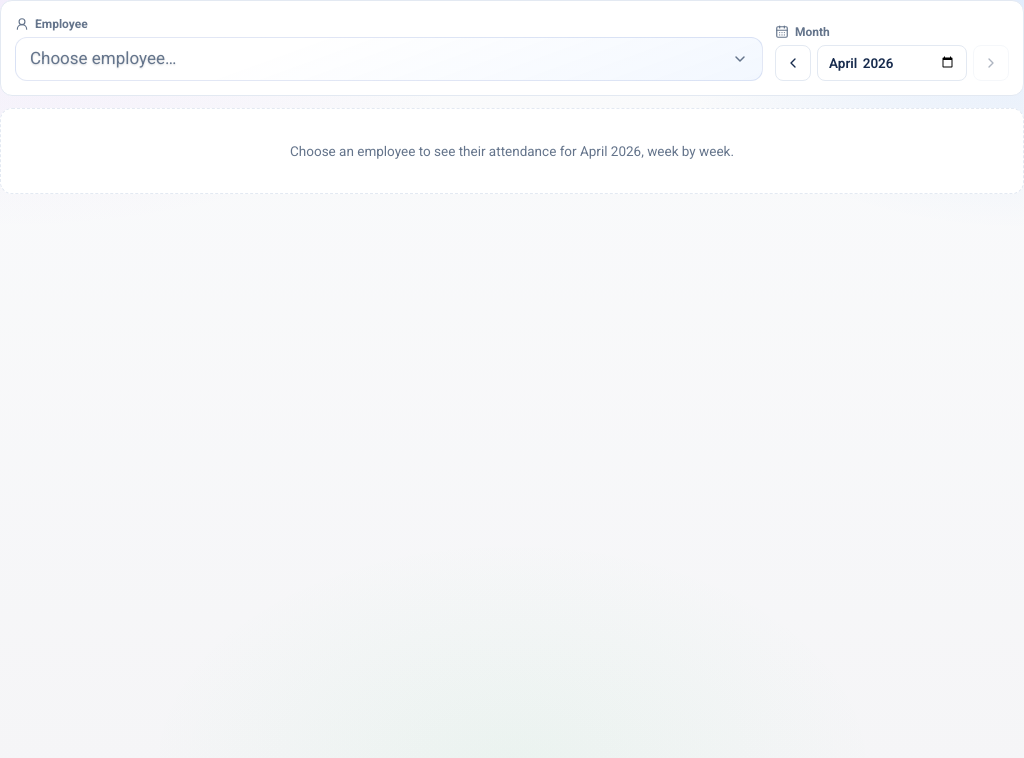
Test: Attendance Correction — choosing the employee and the month › loads the chosen employee's current month once, with the monthly summary from the attendance report
Click the button "Choose employee…" at (103, 58), box [15,37,763,81]
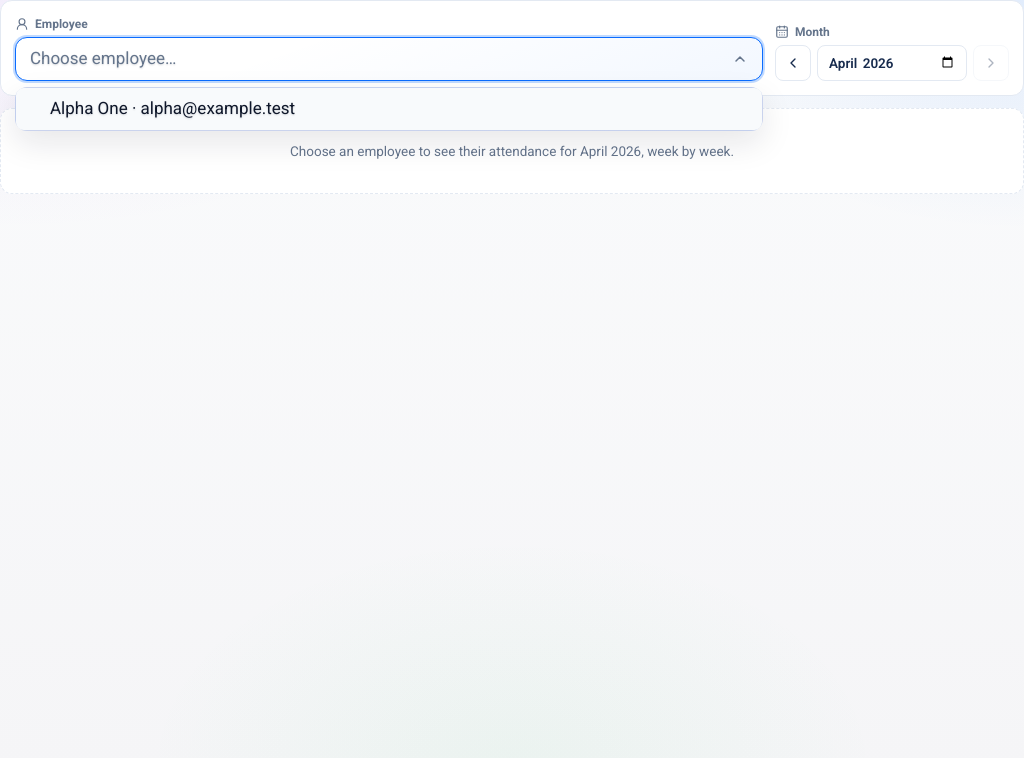
Click the option "Alpha One · alpha@example.test" at (173, 108), box [16,88,762,130]
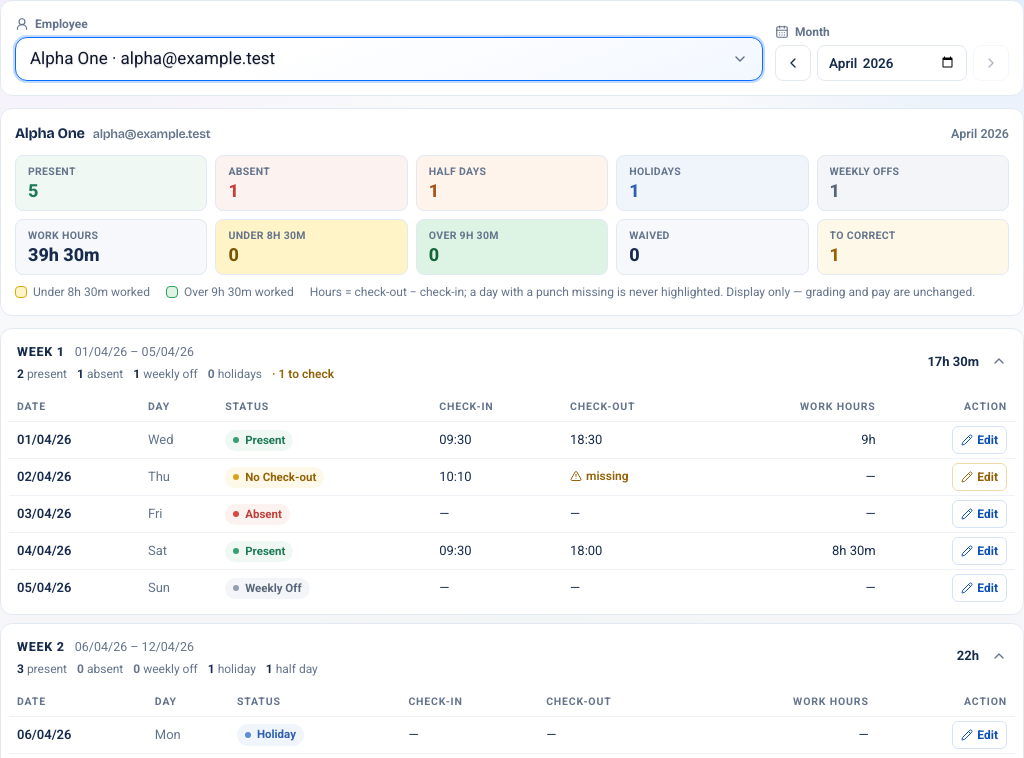
Expected: the element named "Month summary" is shown, [0,108,1023,316]
Expected: the text "39h 30m" is shown, [28,244,100,265]
